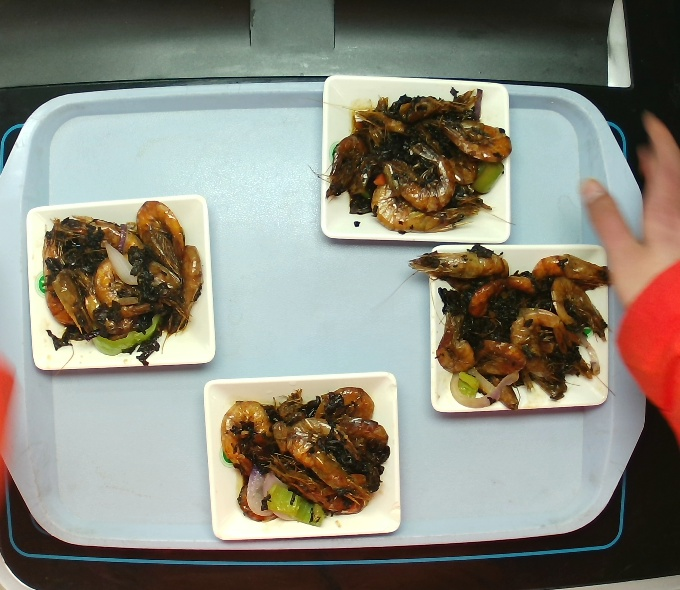wcq-GanCaiXia: (425, 237, 609, 414), (320, 85, 511, 241), (31, 196, 206, 363), (224, 375, 387, 536)
